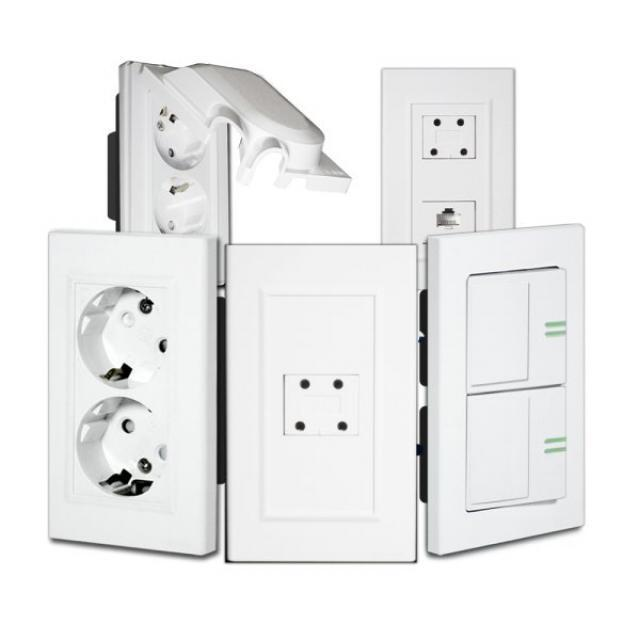typeb: (17, 218, 235, 590), (101, 63, 243, 236)
